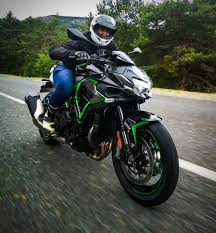moto: (36, 50, 186, 208)
person: (47, 12, 127, 62)
